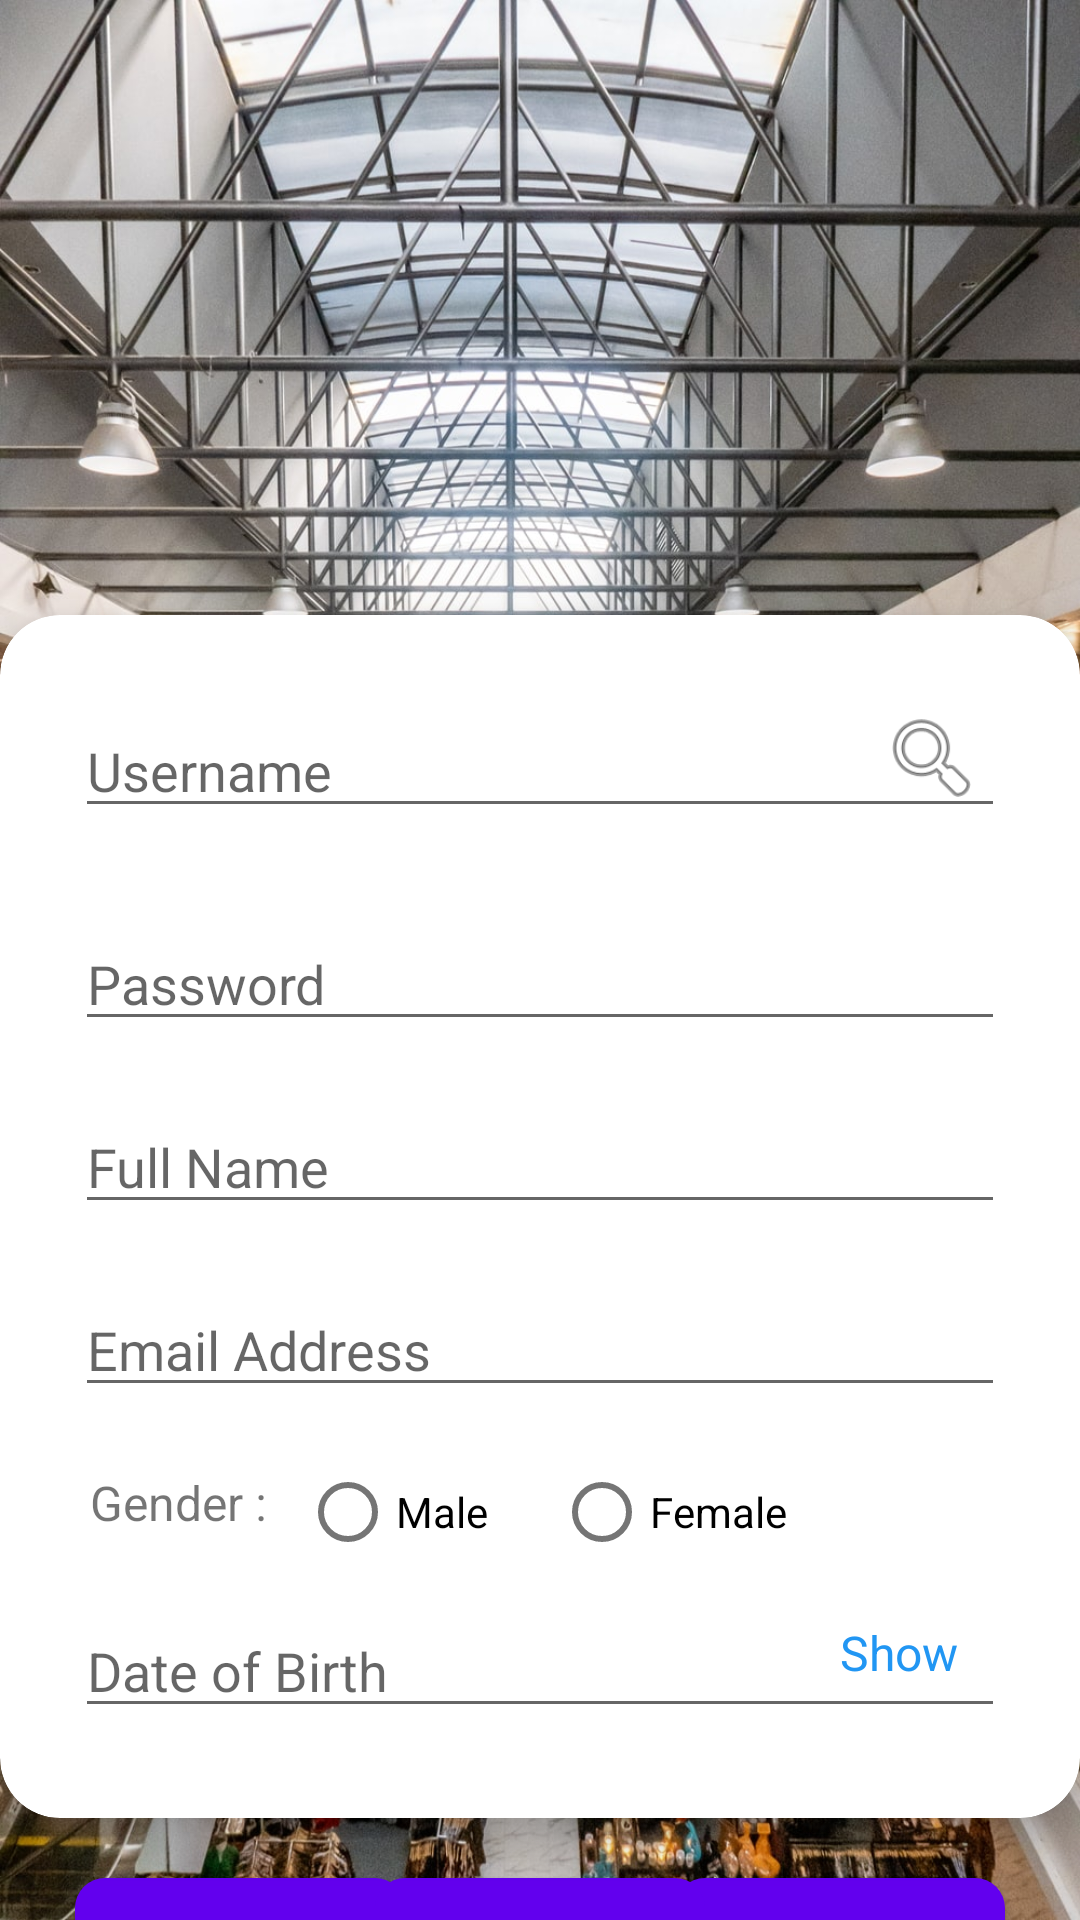

Icon click points for this 1080 × 1920 phone screenshot, format [x,y]:
search: [931,758]
